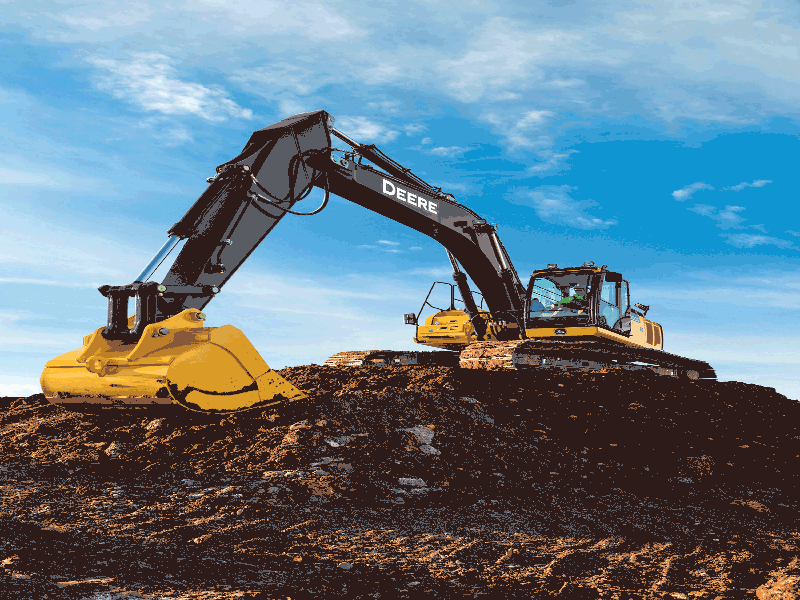shovel: (31, 108, 722, 413)
